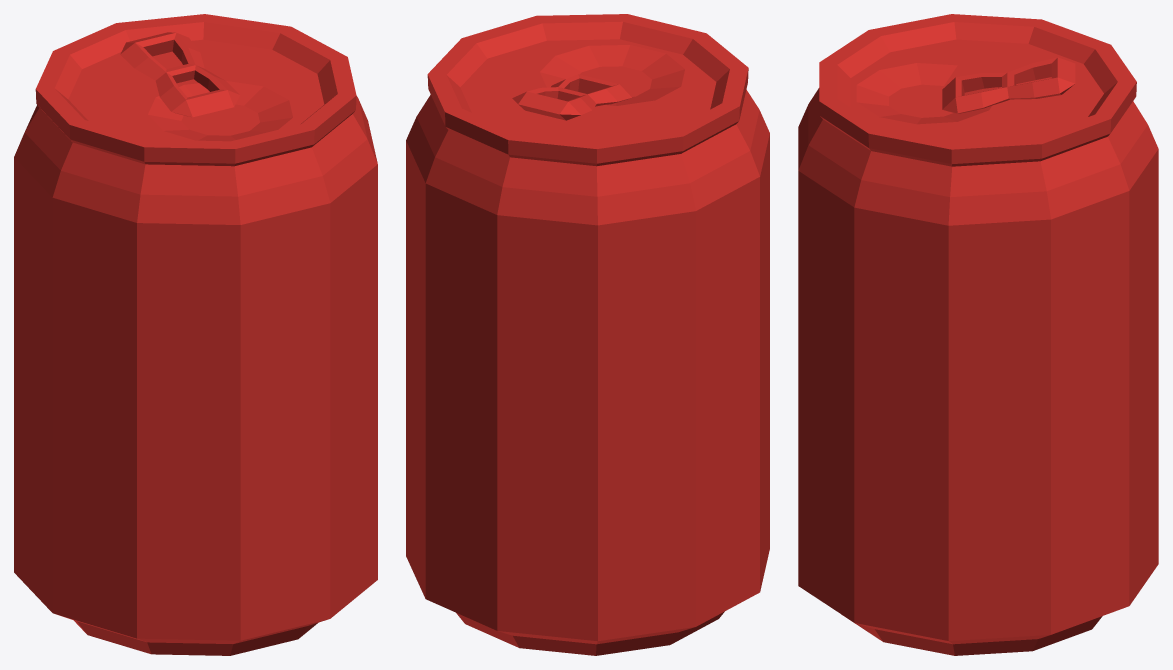
Rendered from q-sodacan.glb.
The picture shows the model from 3 angles, left to right: view 1: azimuth 30°, elevation 25°; view 2: azimuth 150°, elevation 25°; view 3: azimuth 270°, elevation 25°; orthographic projection.
Parts seen in each view (by area): view 1: Soda_can; view 2: Soda_can; view 3: Soda_can.
Part boxes in pixels (x1,y1,x2,y2): Soda_can: [14, 14, 377, 655]; Soda_can: [406, 14, 769, 655]; Soda_can: [798, 14, 1158, 655].
Bounding box in the file's own units: 0.6189 × 0.9948 × 0.6126.
